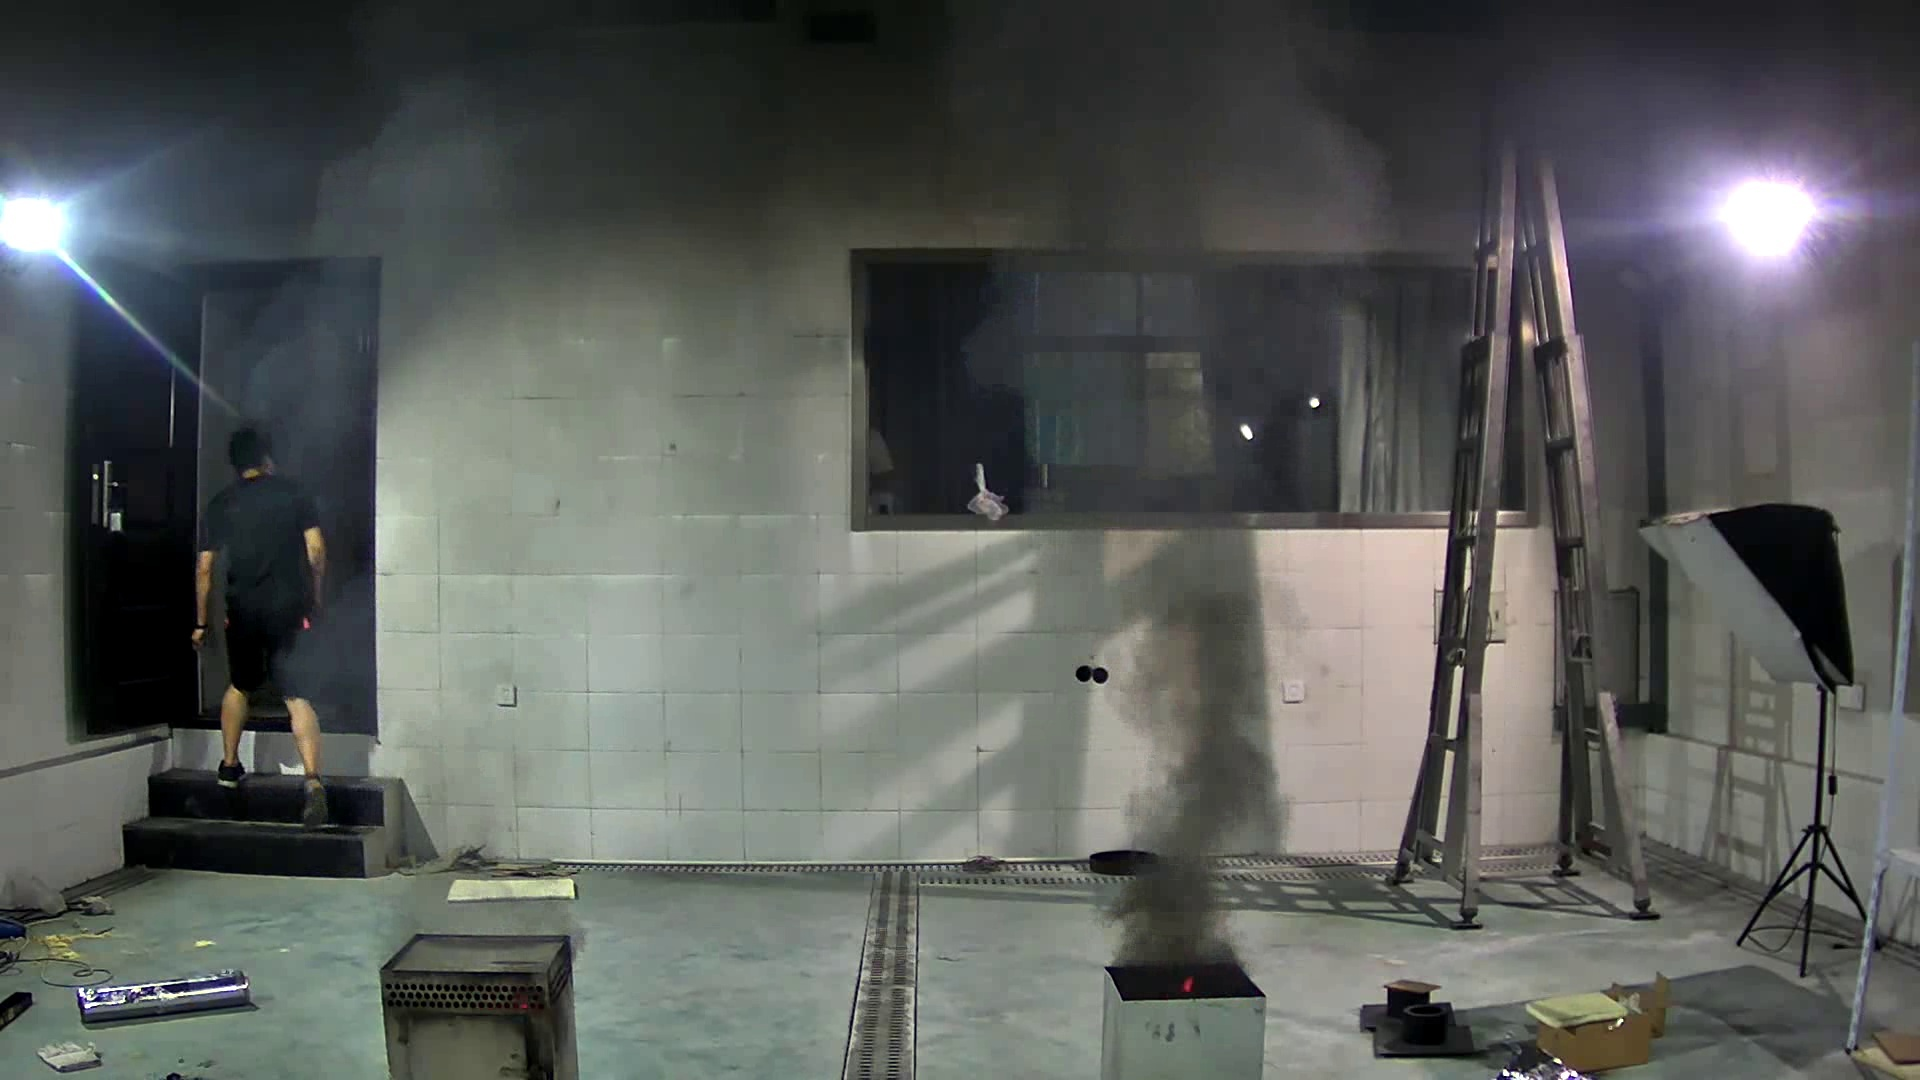smoke: (1054, 480, 1305, 963)
